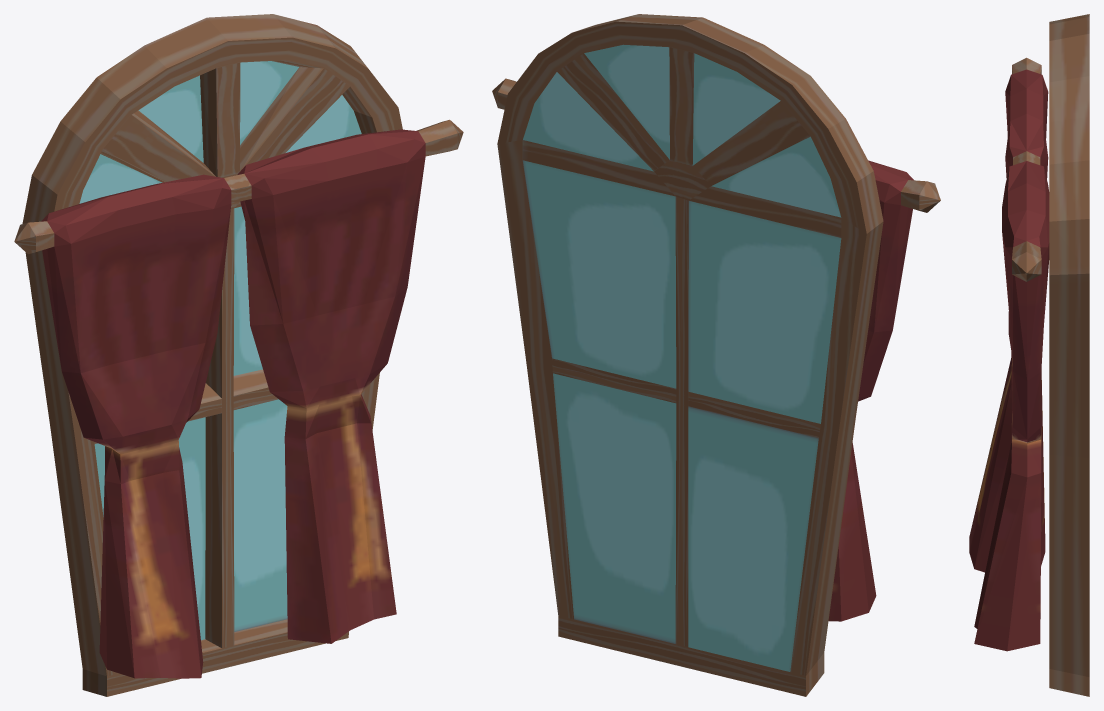
File: windowInterior_townHall.obj
3 renders of one model, left to right at view 1: azimuth 30°, elevation 25°; view 2: azimuth 150°, elevation 25°; view 3: azimuth 270°, elevation 25°, orthographic. The views are drawn at different scales.
Parts seen in each view (by area): view 1: Mesh_0004; view 2: Mesh_0004; view 3: Mesh_0004.
Part boxes in pixels (x1,y1,x2,y2): Mesh_0004: (14, 14, 463, 696); Mesh_0004: (492, 14, 940, 696); Mesh_0004: (969, 14, 1089, 696).
Bounding box in the file's own units: 1.79 × 2.44 × 0.4392.
Materials: 1 (1 with a texture image).
